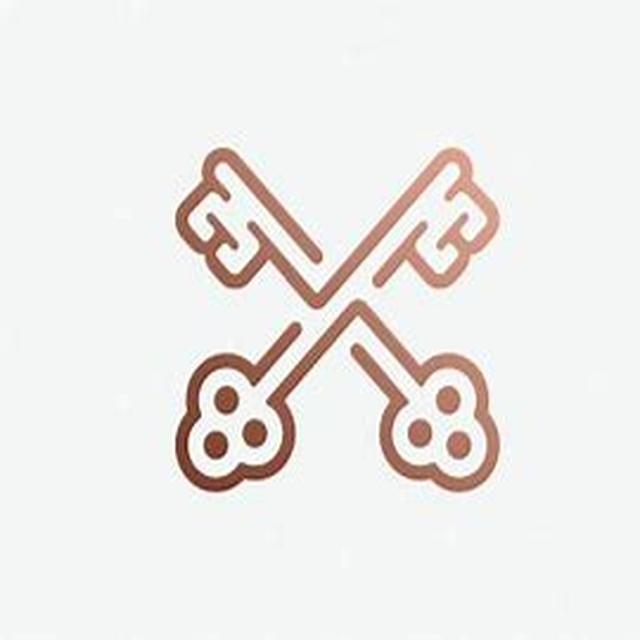key: (105, 131, 516, 550)
